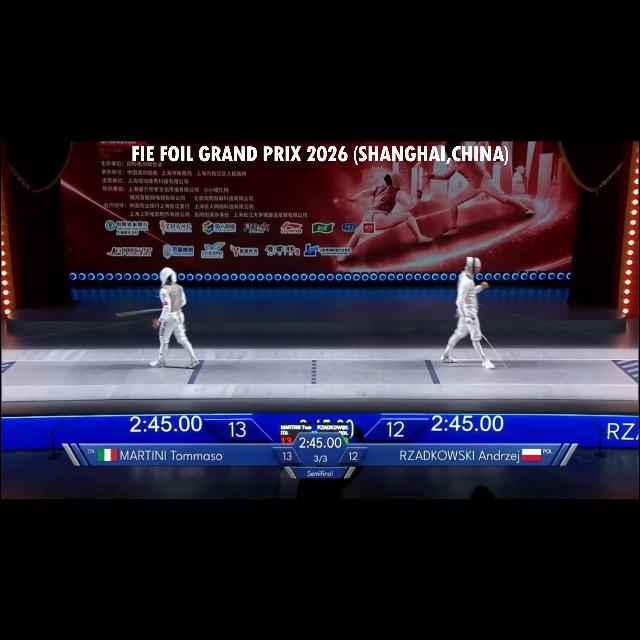blade: (470, 314, 512, 372), (110, 306, 163, 318)
